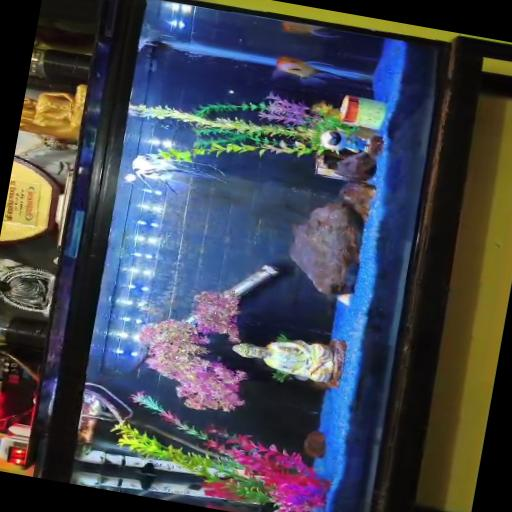Fish: (132, 154, 225, 192), (274, 57, 344, 85), (283, 22, 340, 38)
